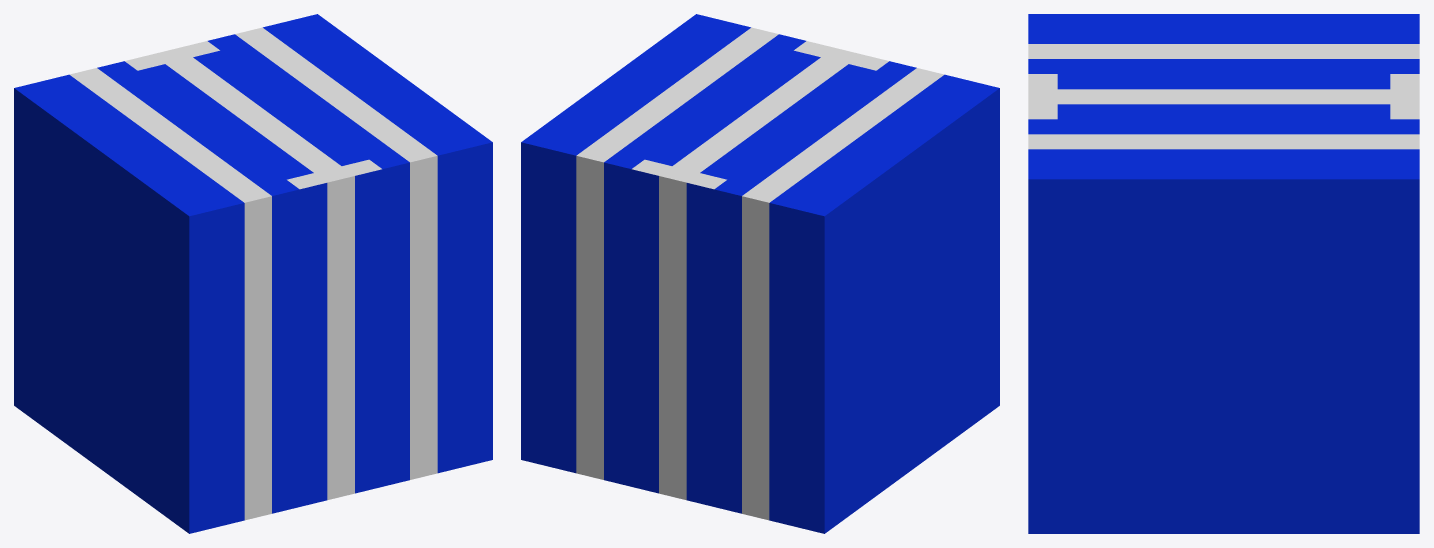
Rendered from yeni platform.fbx.
The picture shows the model from 3 angles, left to right: view 1: azimuth 30°, elevation 25°; view 2: azimuth 150°, elevation 25°; view 3: azimuth 270°, elevation 25°; orthographic projection. The views are drawn at different scales.
Parts seen in each view (by area): view 1: Cube; view 2: Cube; view 3: Cube.
Part boxes in pixels (x1,y1,x2,y2): Cube: [14, 14, 492, 533]; Cube: [521, 14, 999, 533]; Cube: [1028, 14, 1419, 533].
Bounding box in the file's own units: 200 × 200 × 200.
